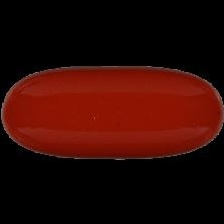0228-2530: (0, 0, 224, 224)
